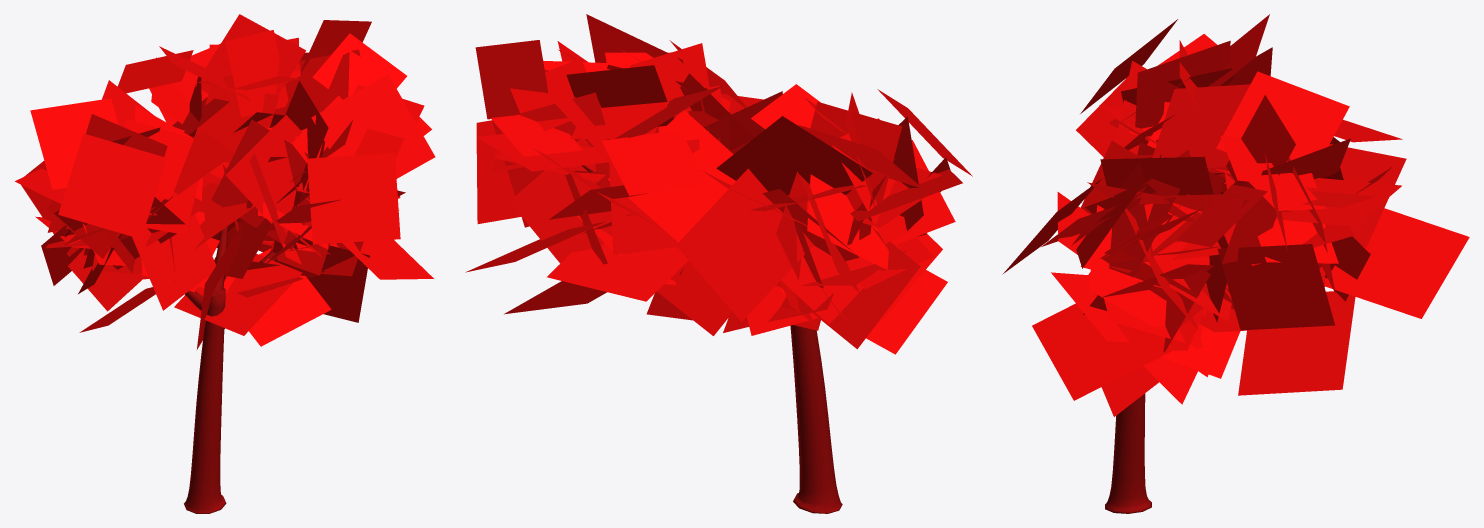
The model's file is tree_blossom_0.glb.
3 renders of one model, left to right at view 1: azimuth 30°, elevation 25°; view 2: azimuth 150°, elevation 25°; view 3: azimuth 270°, elevation 25°, orthographic. The views are drawn at different scales.
Parts seen in each view (by area): view 1: tree_blossom_0; view 2: tree_blossom_0; view 3: tree_blossom_0.
Boxes of the visible parts, box(x1,y1,x2,y2) form: tree_blossom_0: box(15, 14, 435, 513); tree_blossom_0: box(465, 14, 972, 513); tree_blossom_0: box(1002, 14, 1469, 513).
Bounding box in the file's own units: 6.93 × 6.7 × 6.2.
